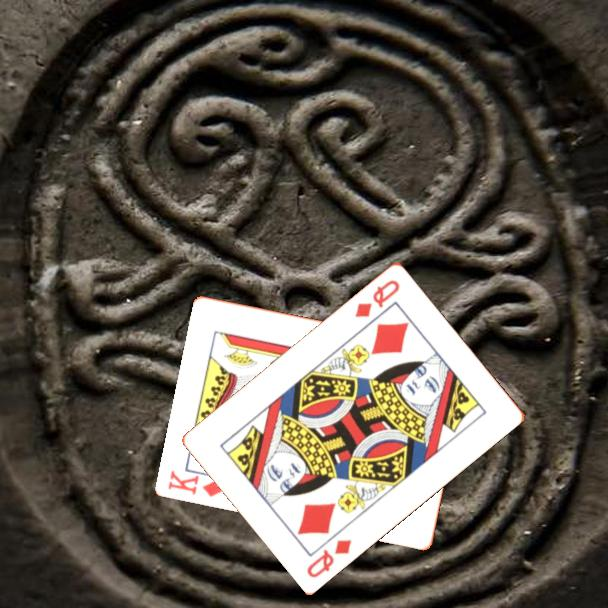d12: (303, 535, 355, 580), (351, 276, 403, 320)
d13: (165, 467, 226, 500)
